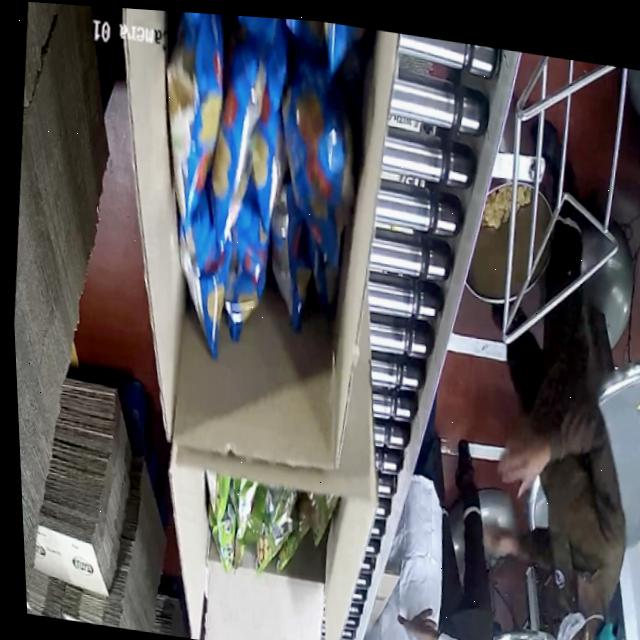PAPRIKA: (136, 9, 376, 381)
